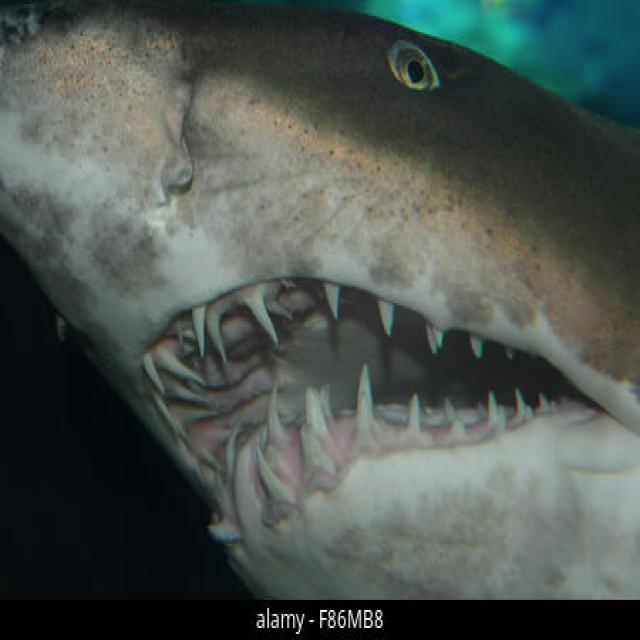Shark: (0, 2, 640, 598)
